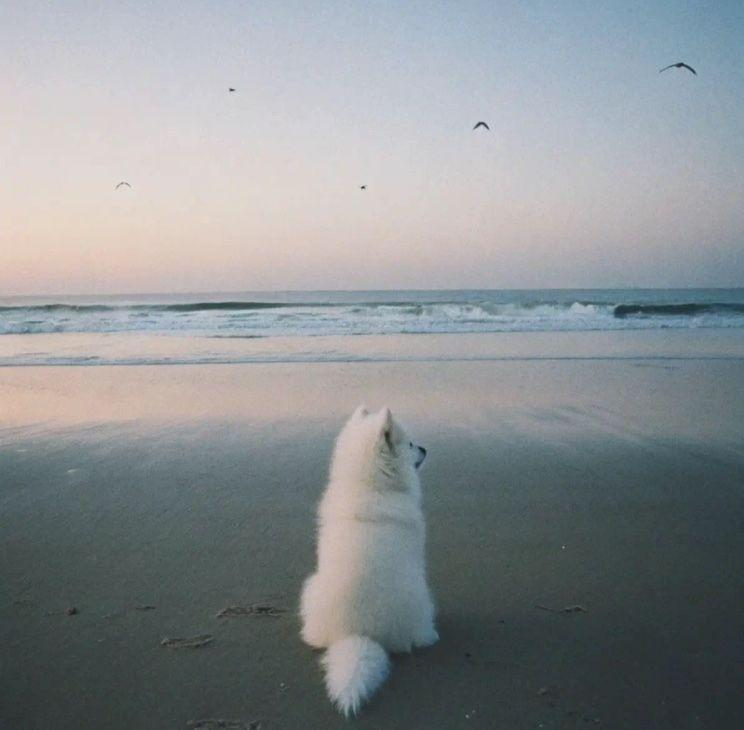adult_dog: (296, 406, 442, 716)
